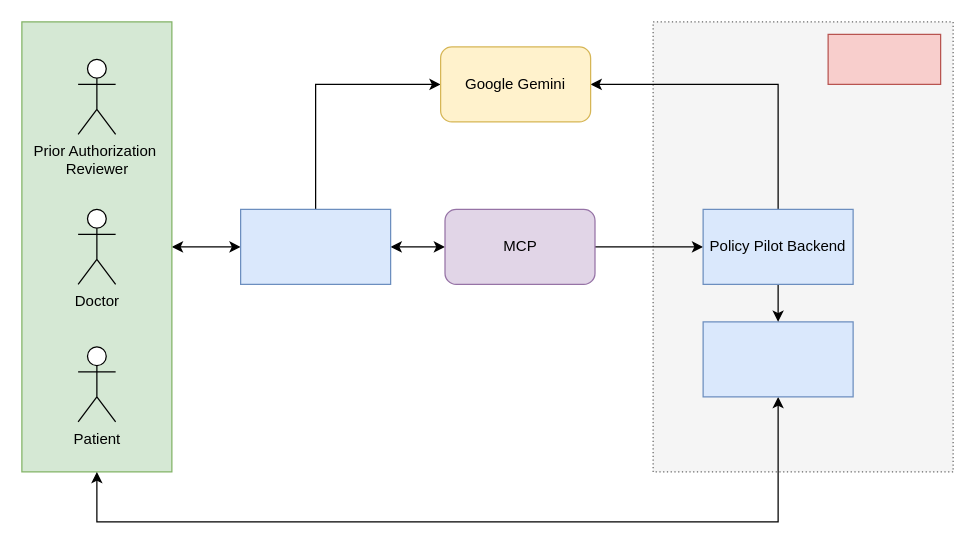
Some shapes in this 975 by 555 pixel diagram are drawn without their labels. Here are the shapes that lost their labels. From the top down, the box of each, then its label:
(827, 33, 941, 84): Policy Pilot
(239, 208, 391, 284): Prompt Opinon
(702, 321, 853, 397): Policy Pilot UI
